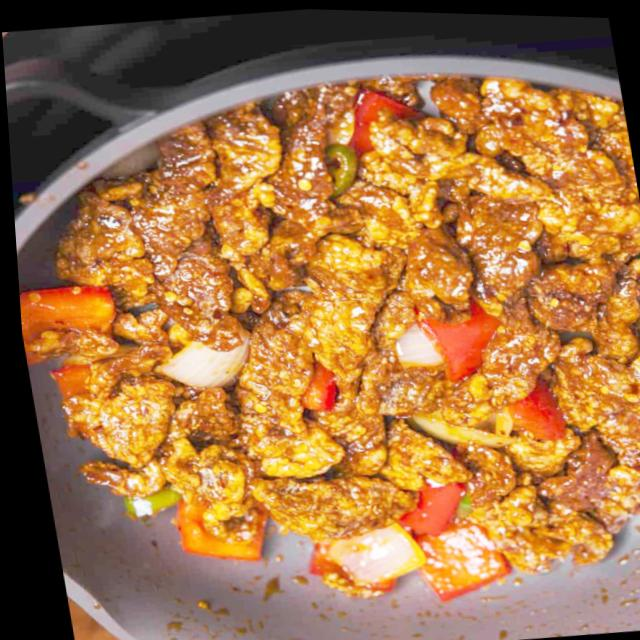Beijing Beef: (3, 44, 640, 640)
